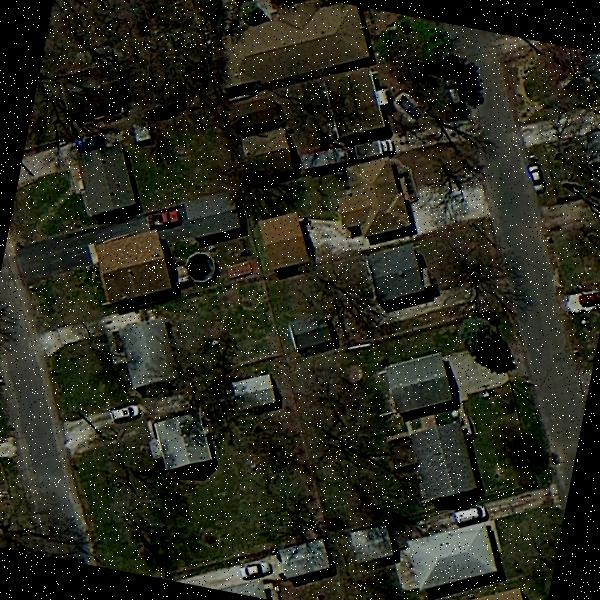Buildings: (232, 0, 375, 94), (399, 515, 506, 600), (74, 130, 146, 224), (336, 163, 416, 243), (397, 425, 477, 502), (380, 348, 459, 410), (100, 235, 176, 298), (358, 244, 428, 306), (148, 411, 216, 469), (121, 324, 169, 390), (554, 45, 600, 107), (277, 538, 325, 590), (286, 306, 336, 354), (444, 579, 544, 600), (576, 127, 600, 180), (233, 377, 270, 411)
